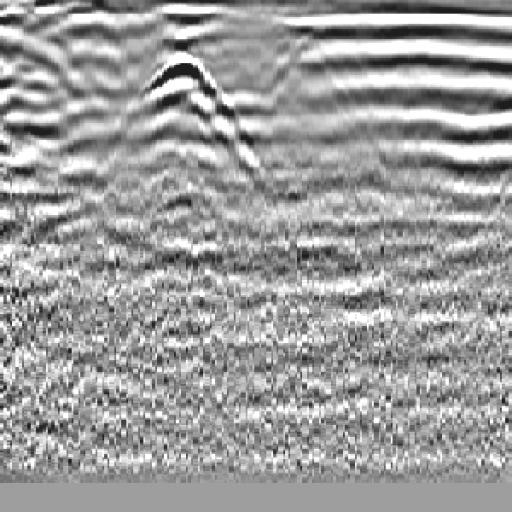metalic: (84, 19, 286, 246)
